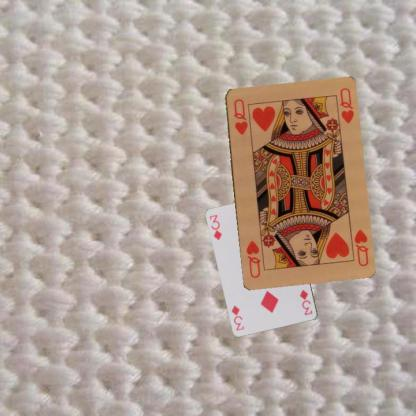3d: (297, 287, 314, 316), (207, 212, 223, 242)
Qh: (351, 226, 370, 267), (231, 96, 249, 136)
